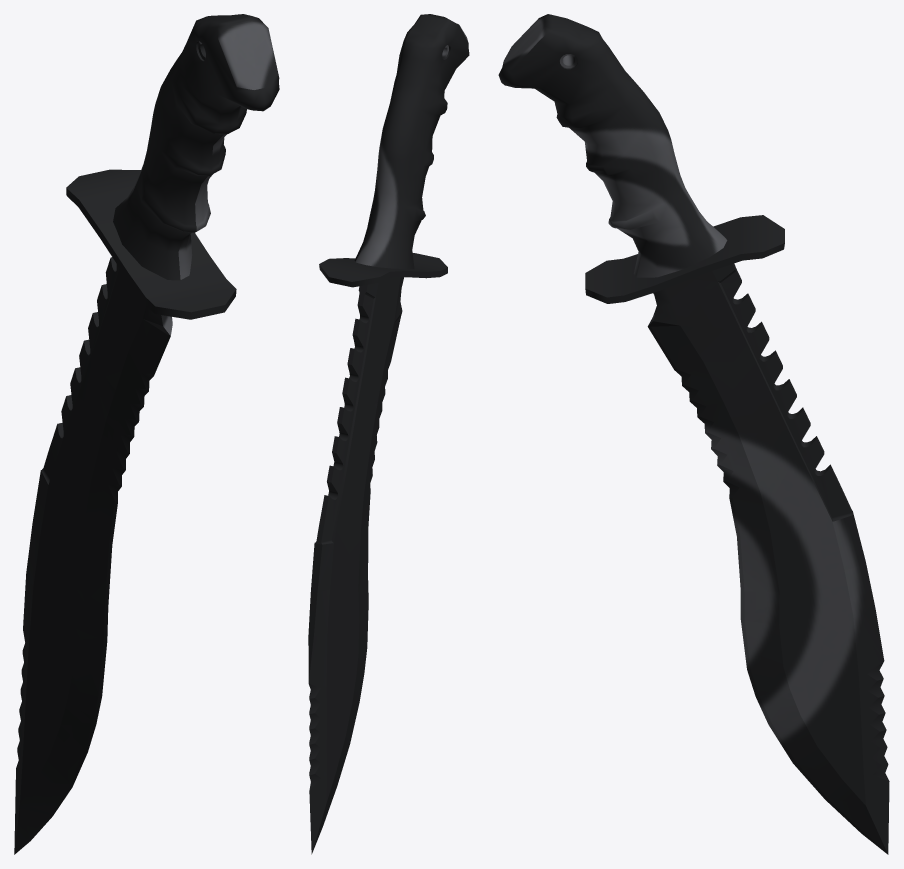
Rendered from kukri.glb.
The picture shows the model from 3 angles, left to right: view 1: azimuth 30°, elevation 25°; view 2: azimuth 150°, elevation 25°; view 3: azimuth 270°, elevation 25°; orthographic projection. The views are drawn at different scales.
Parts seen in each view (by area): view 1: L0_LOD0_16; view 2: L0_LOD0_16; view 3: L0_LOD0_16.
Boxes of the visible parts, bbox=[...] form: L0_LOD0_16: bbox=[14, 14, 279, 854]; L0_LOD0_16: bbox=[308, 14, 469, 854]; L0_LOD0_16: bbox=[498, 14, 889, 854].
Bounding box in the file's own units: 0.0433 × 0.4871 × 0.2041.
Materials: 1 (1 with a texture image).
